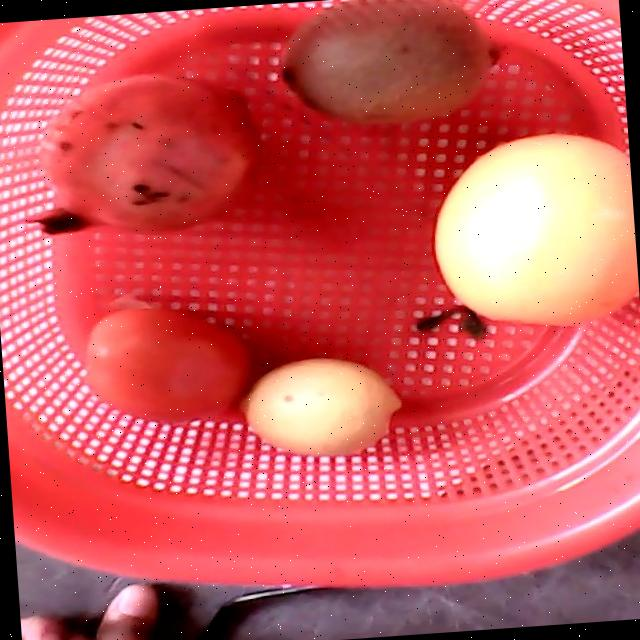kiwi: (281, 0, 495, 121)
lemon: (243, 357, 401, 452)
orange: (434, 134, 635, 327)
pomegranate: (27, 71, 257, 235)
tomato: (82, 305, 255, 424)
